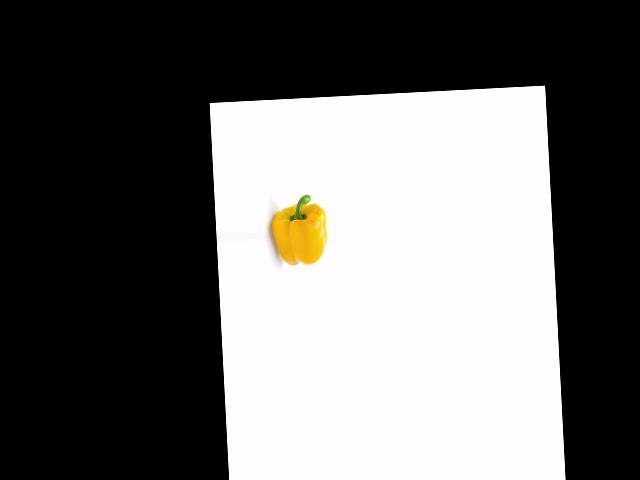bell_pepper: (270, 187, 331, 268)
